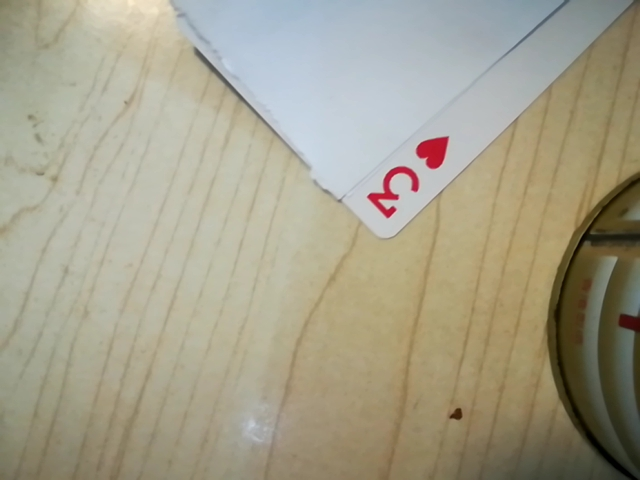hx 3: (361, 134, 452, 227)
